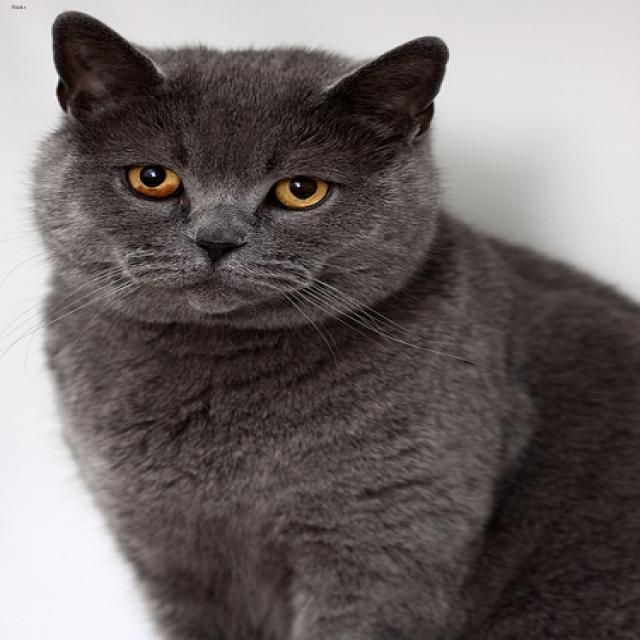British_Shorthair: (33, 11, 446, 313)
